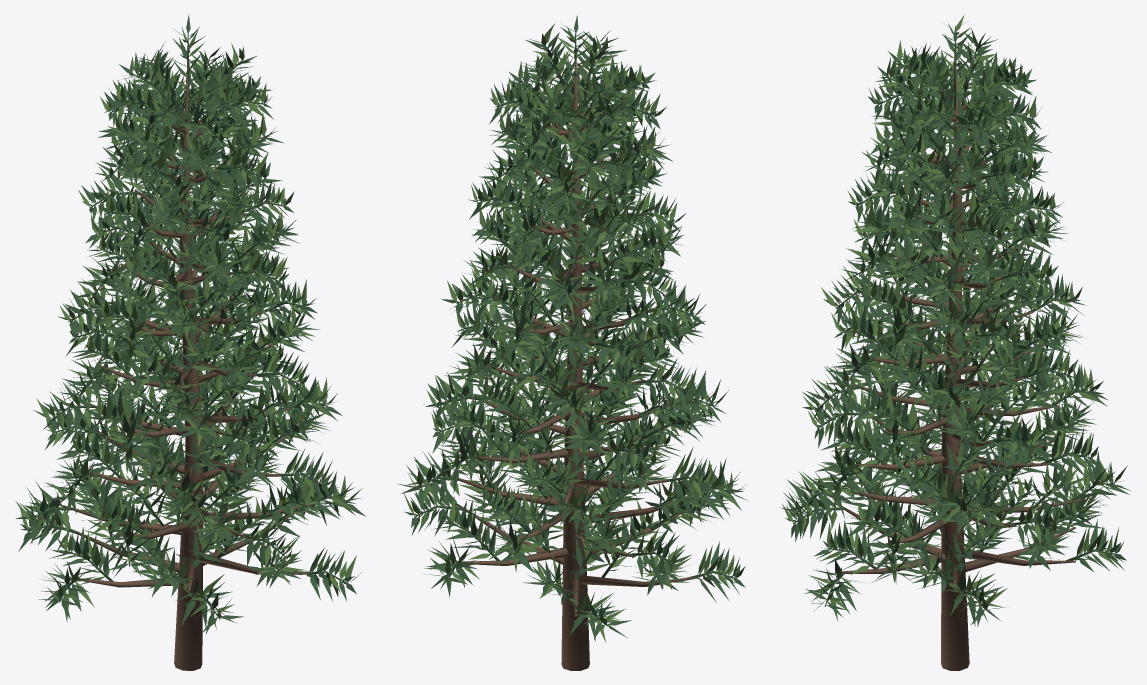
The model's file is rpg-mansion-garden-columnar-conifer-01.glb.
3 views of the same model, side by side, from view 1: azimuth 30°, elevation 25°; view 2: azimuth 150°, elevation 25°; view 3: azimuth 270°, elevation 25° (orthographic).
Visible parts, largest first — view 1: rpg-mansion-garden-columnar-conifer-01; view 2: rpg-mansion-garden-columnar-conifer-01; view 3: rpg-mansion-garden-columnar-conifer-01.
Part boxes in pixels (<box>): rpg-mansion-garden-columnar-conifer-01: <box>15,14,365,670</box>; rpg-mansion-garden-columnar-conifer-01: <box>396,15,747,670</box>; rpg-mansion-garden-columnar-conifer-01: <box>780,14,1130,670</box>.
Bounding box in the file's own units: 1.18 × 2.22 × 1.1.
